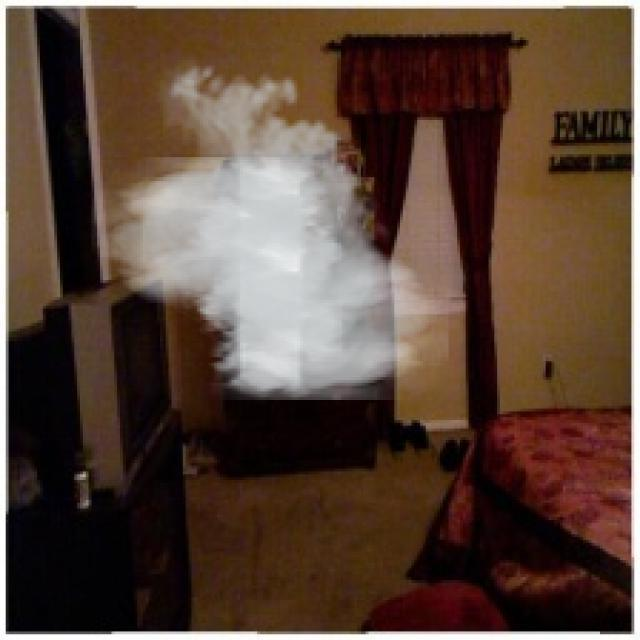Smoke: (91, 54, 448, 400)
